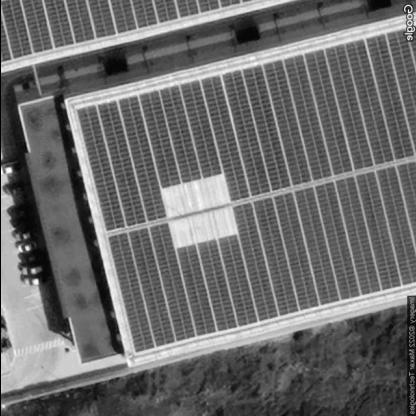solar-pv-panel: (75, 28, 416, 231), (106, 161, 416, 352), (1, 1, 255, 63)
